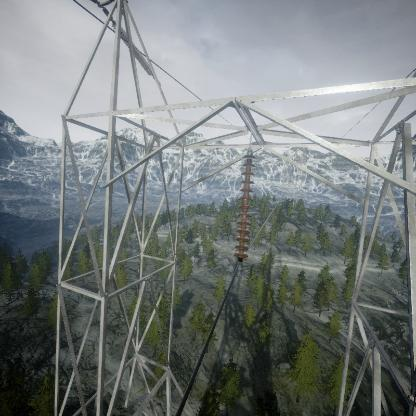insulator: (233, 149, 258, 260)
